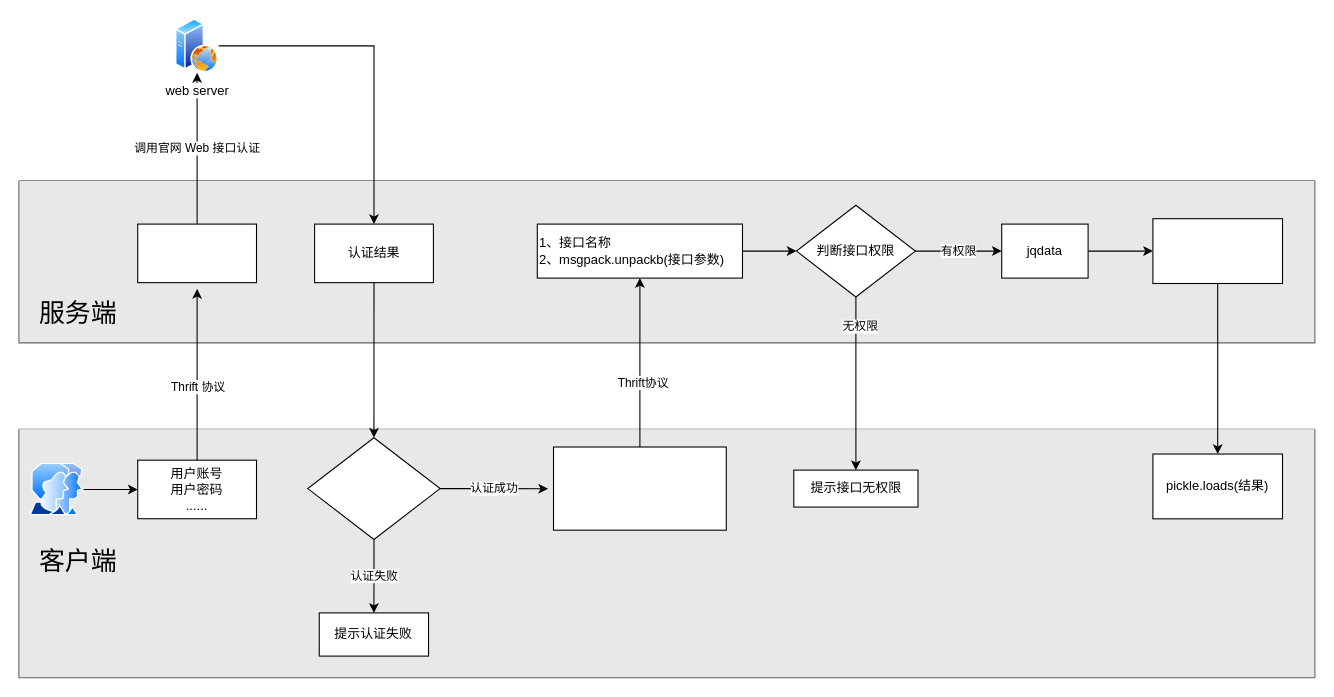
This 1334x697 diagram has some shape labels left out. The centre of each missing label's shape, as x and y in pixels:
"1、接口名称 2、msgpack.pack(接口参数)" goes at point 639,488.
"pickle.dumps(结果)" goes at point 1217,251.
"判断登录结果" goes at point 373,488.
"用户账号 用户协议 ......" goes at point 196,253.
